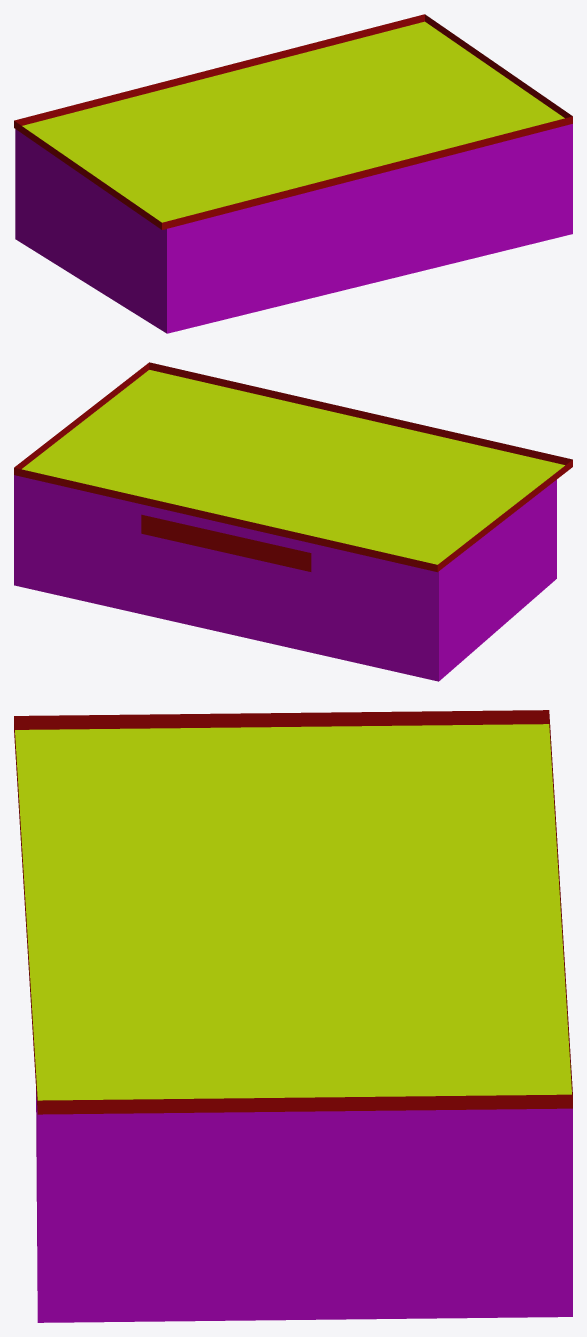
File: scl_124.glb
The picture shows the model from 3 angles, top to bottom: view 1: azimuth 30°, elevation 25°; view 2: azimuth 150°, elevation 25°; view 3: azimuth 270°, elevation 25°; orthographic projection. The views are drawn at different scales.
Parts seen in each view (by area): view 1: scl_124; view 2: scl_124; view 3: scl_124.
Part boxes in pixels (left/top/right/bottom): scl_124: left=14, top=14, right=572, bottom=333; scl_124: left=14, top=362, right=572, bottom=681; scl_124: left=14, top=710, right=572, bottom=1322.
Size of the model in its own units: 20.93 by 5.56 by 12.66.
